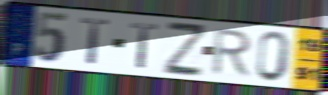0: (256, 30, 292, 83)
5: (34, 12, 71, 66)
R: (209, 28, 255, 79)
T: (79, 17, 112, 66), (129, 21, 161, 70)
Z: (163, 19, 206, 78)
